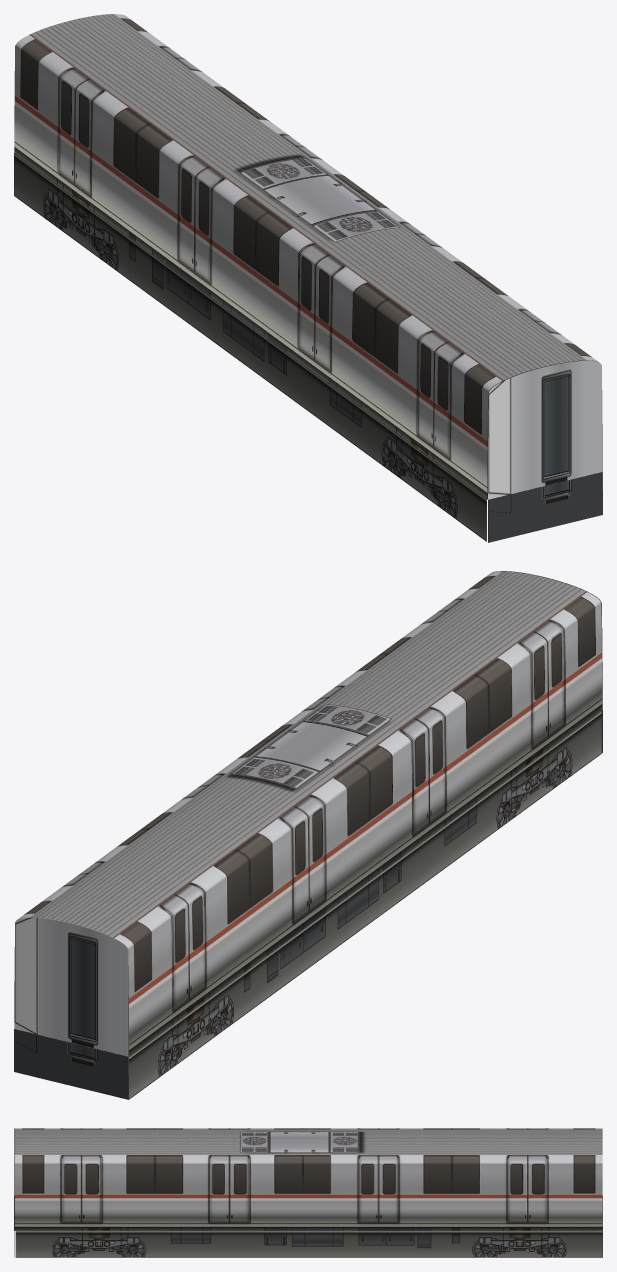
Rendered from car7.glb.
The picture shows the model from 3 angles, top to bottom: view 1: azimuth 30°, elevation 25°; view 2: azimuth 150°, elevation 25°; view 3: azimuth 270°, elevation 25°; orthographic projection. The views are drawn at different scales.
Parts seen in each view (by area): view 1: tokyometro-10000-car7; view 2: tokyometro-10000-car7; view 3: tokyometro-10000-car7.
Part boxes in pixels (x1=…): tokyometro-10000-car7: x1=14, y1=14, x2=602, y2=542; tokyometro-10000-car7: x1=14, y1=571, x2=602, y2=1099; tokyometro-10000-car7: x1=14, y1=1128, x2=602, y2=1257.
Bounding box in the file's own units: 2.8 × 3.77 × 20.03.
8 materials, 7 textured.
